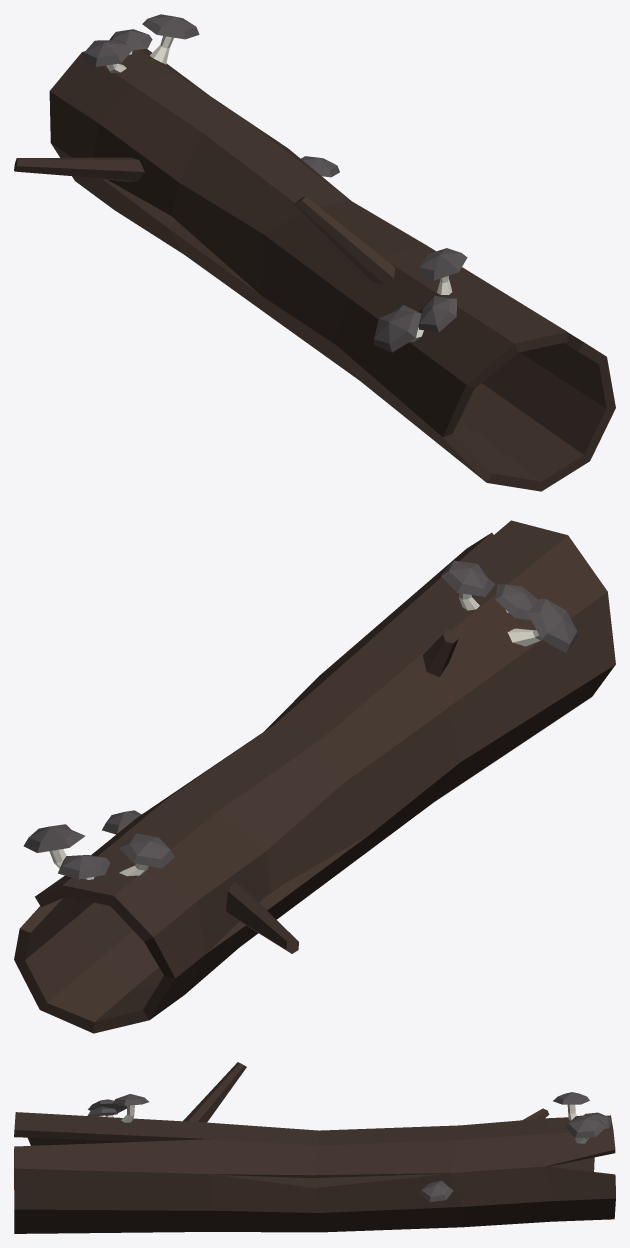
The model's file is WoodLog_2.fbx.
3 views of the same model, one above another, from view 1: azimuth 30°, elevation 25°; view 2: azimuth 150°, elevation 25°; view 3: azimuth 270°, elevation 25° (orthographic). The views are drawn at different scales.
Parts seen in each view (by area): view 1: WoodLog_2; view 2: WoodLog_2; view 3: WoodLog_2.
Boxes of the visible parts, x1=… form: WoodLog_2: x1=14, y1=14, x2=615, y2=491; WoodLog_2: x1=14, y1=520, x2=615, y2=1033; WoodLog_2: x1=14, y1=1062, x2=615, y2=1233.
Size of the model in its own units: 2.69 by 2.06 by 8.
